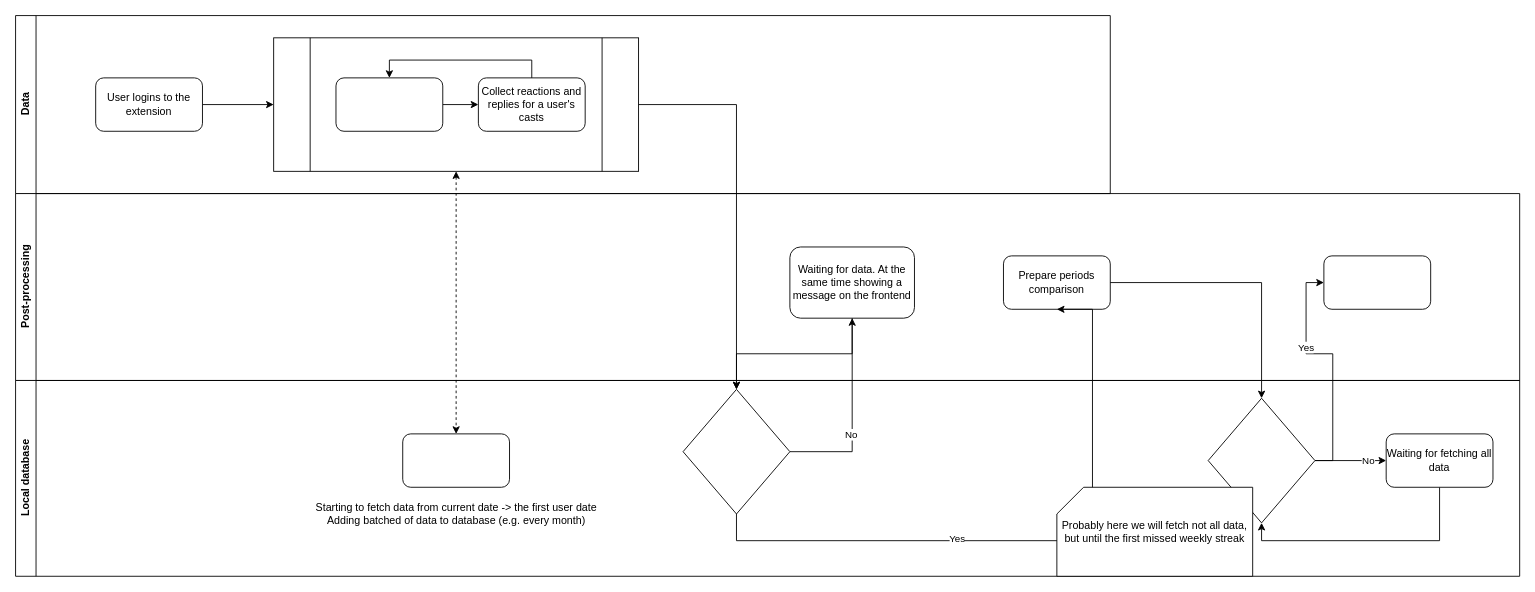
The diagram is 1535 pixels wide and 592 high, and some of its shapes have lost their labels. Each missing label, with the centre of its shape:
Add batches of user's historical data to the local database: the point at 456,460
Calculate weekly streak for the whole period: the point at 1377,282
Check if analytics for last 60 days is already available in out database: the point at 736,451
Check if fetched all user's data: the point at 1261,460
Get FID's historical data: the point at 389,104
